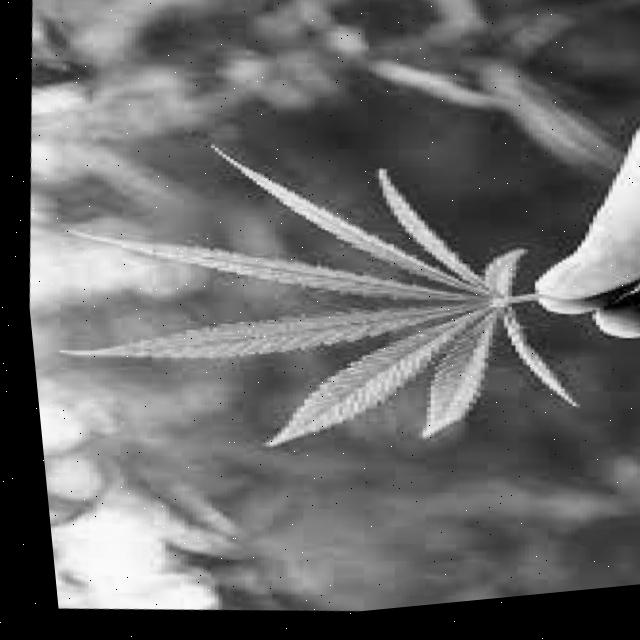cannabis: (58, 145, 578, 443)
